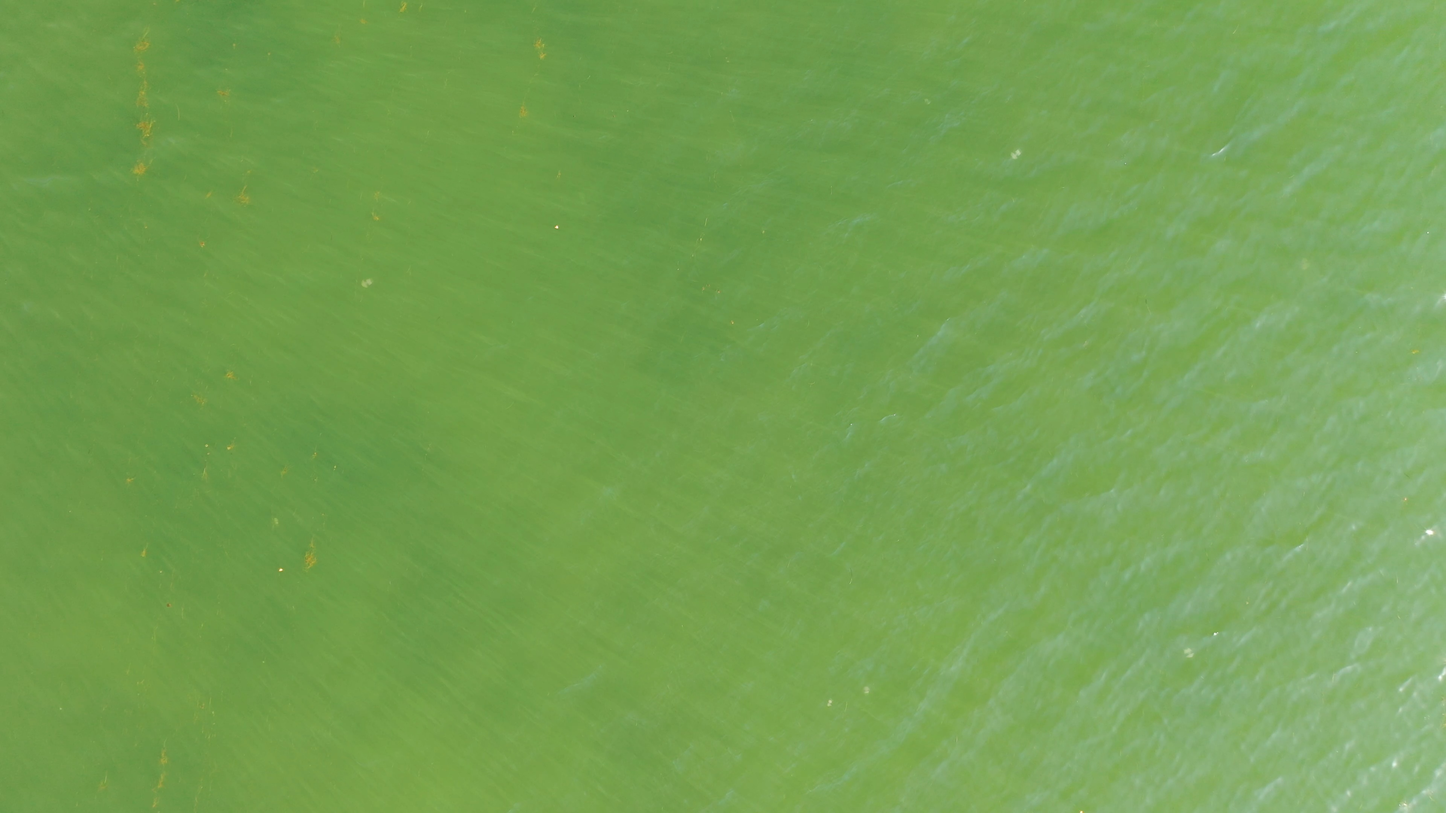meduse: (361, 278, 373, 288), (1011, 148, 1021, 160), (1184, 647, 1194, 659), (826, 699, 834, 706), (863, 686, 870, 694), (924, 99, 930, 104)
